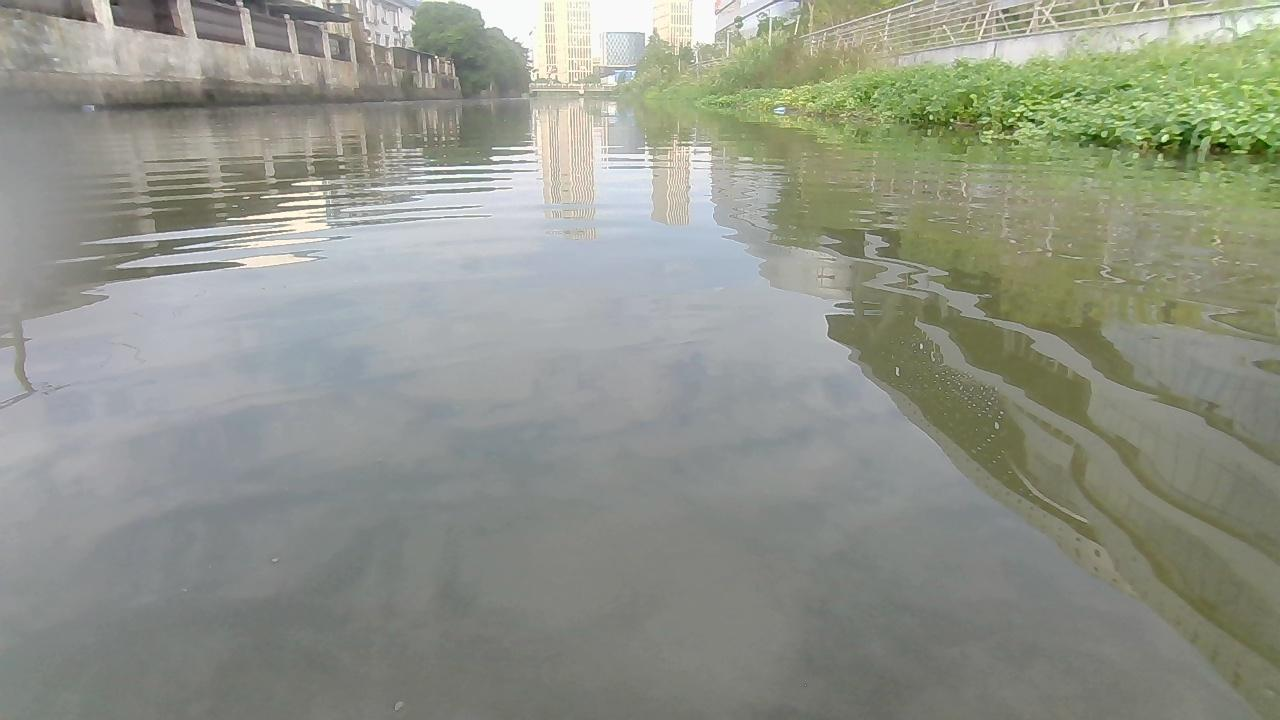bottle: (78, 101, 96, 114), (774, 104, 790, 117)
